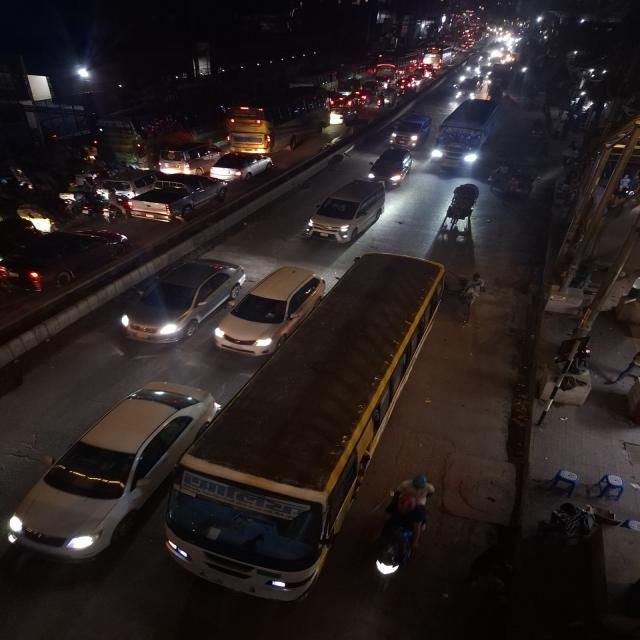bus: (164, 250, 443, 608), (220, 86, 330, 154), (96, 109, 202, 162), (429, 96, 502, 172)
car: (8, 379, 210, 565), (117, 256, 246, 345), (212, 262, 326, 356), (0, 216, 131, 293), (300, 176, 386, 245), (124, 174, 229, 224), (365, 145, 416, 188), (156, 140, 220, 172), (208, 151, 275, 181), (386, 112, 433, 148), (104, 169, 164, 196), (328, 98, 362, 125), (451, 77, 483, 101)
motorcycle: (368, 472, 441, 590)
rickshaw: (440, 182, 483, 234), (13, 201, 59, 231)
